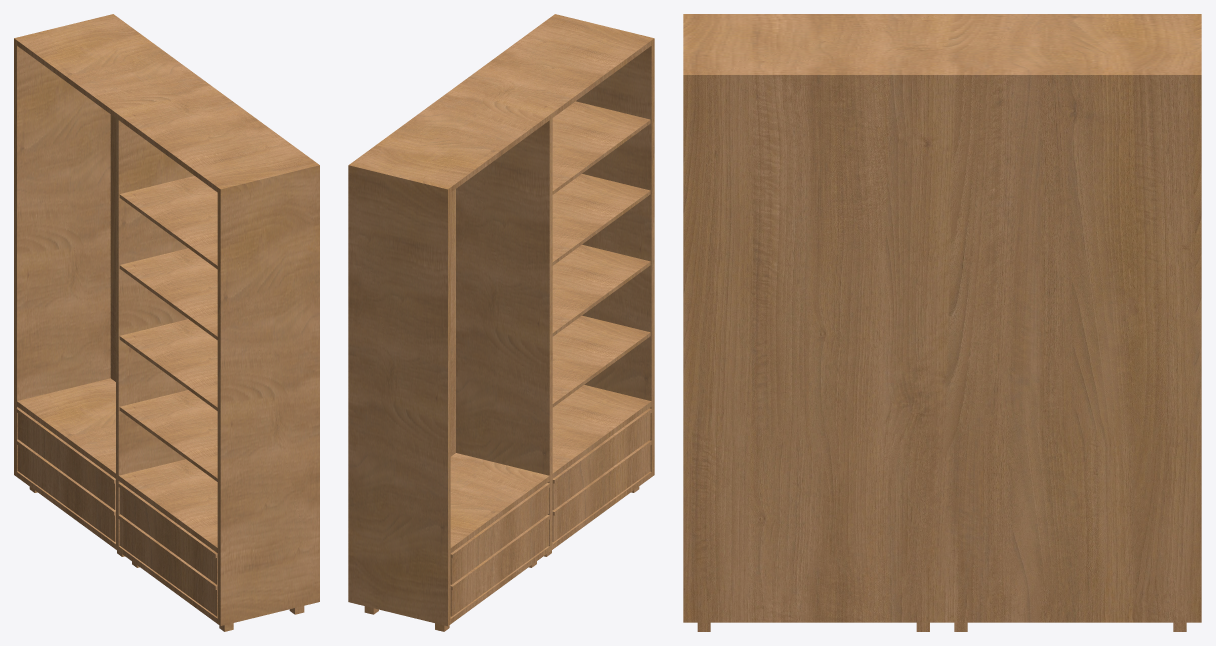
File: simple.gltf
3 views of the same model, side by side, from view 1: azimuth 30°, elevation 25°; view 2: azimuth 150°, elevation 25°; view 3: azimuth 270°, elevation 25° (orthographic). The views are drawn at different scales.
Parts seen in each view (by area): view 1: PackSpace_01; view 2: PackSpace_01; view 3: PackSpace_01.
Part boxes in pixels (x1,y1,x2,y2): PackSpace_01: [14, 14, 319, 631]; PackSpace_01: [348, 14, 654, 631]; PackSpace_01: [683, 14, 1201, 631].
Bounding box in the file's own units: 0.5053 × 2.16 × 1.8.
Materials: 1 (1 with a texture image).
